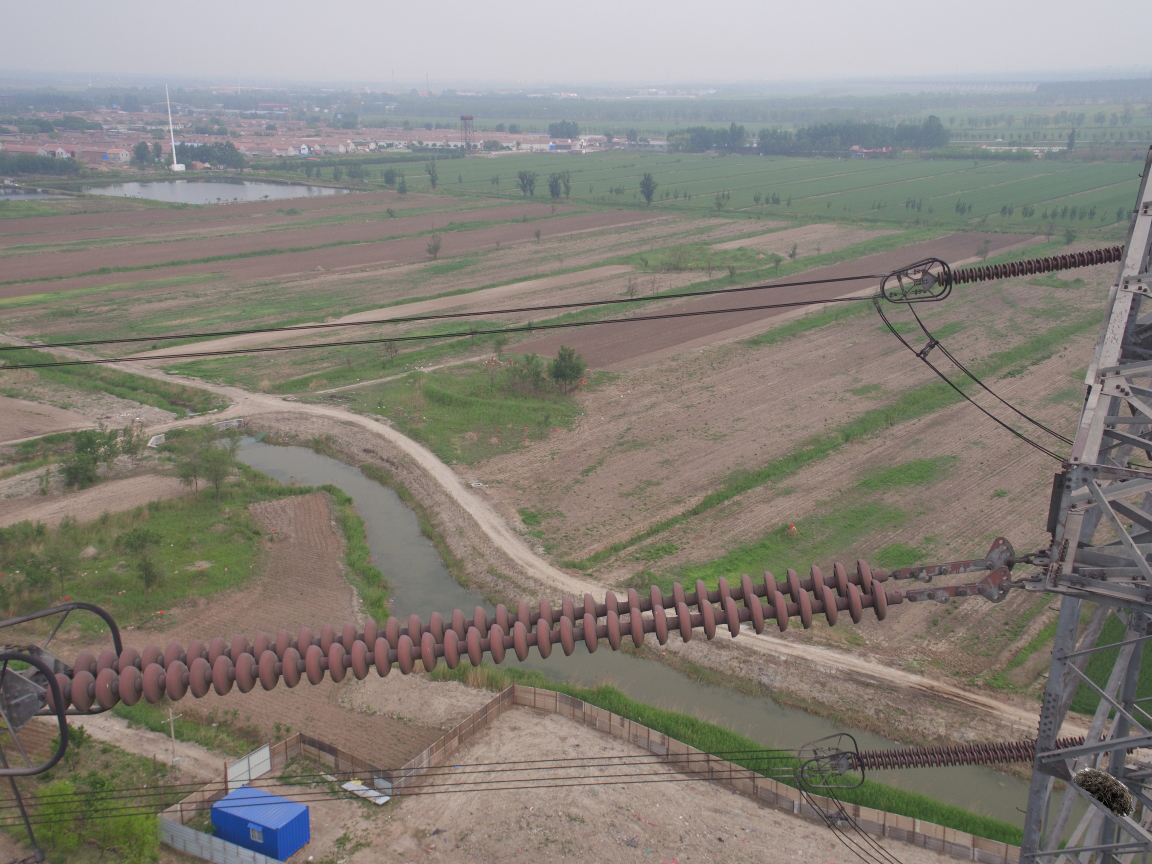nest: (1073, 765, 1136, 816)
